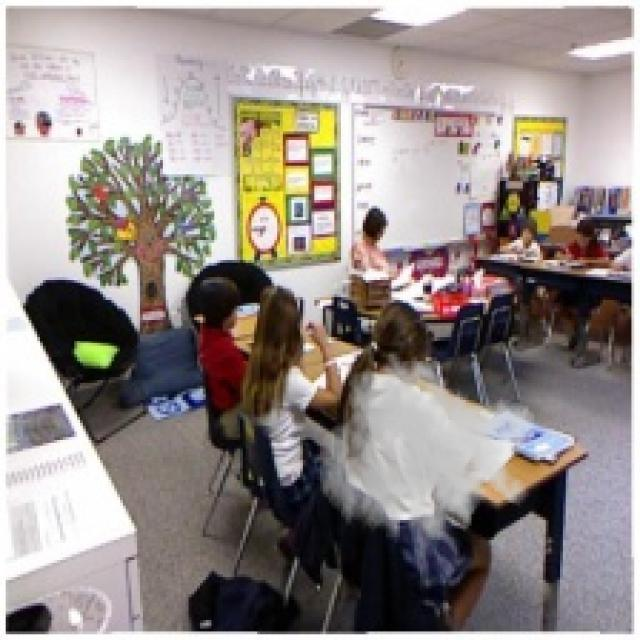Smoke: (317, 346, 537, 563)
